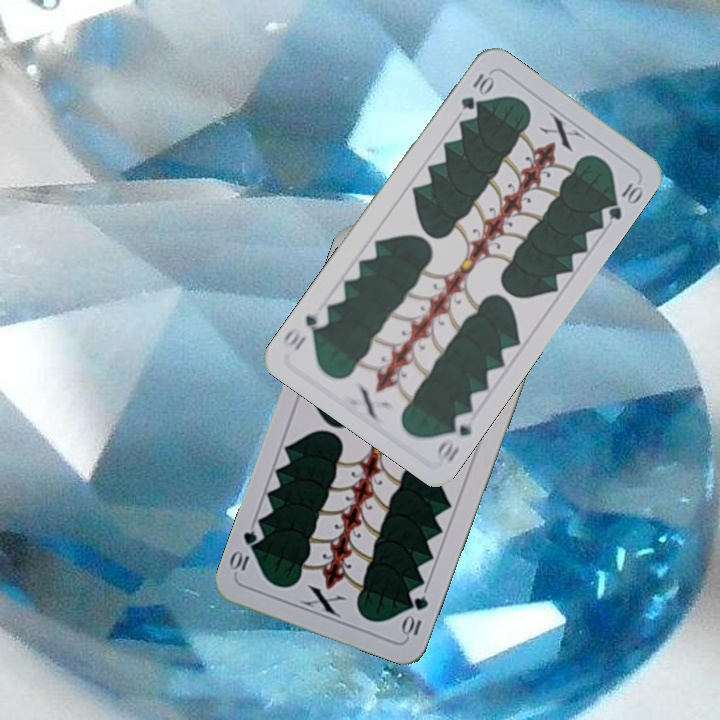G10: (433, 408, 478, 466), (456, 68, 497, 113), (399, 591, 431, 640)
